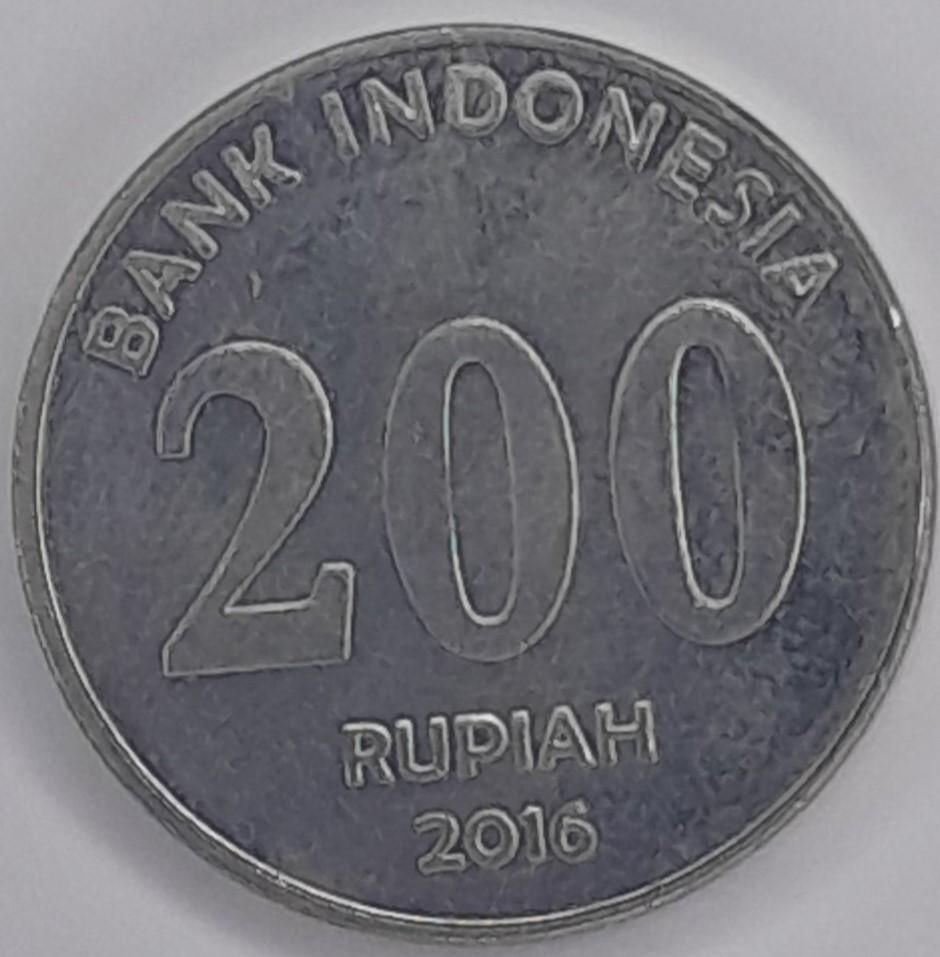coin_200_e2016: (0, 17, 940, 957)
